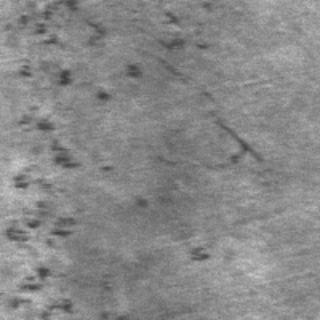rolled pit: (1, 0, 84, 314), (76, 9, 208, 100)
